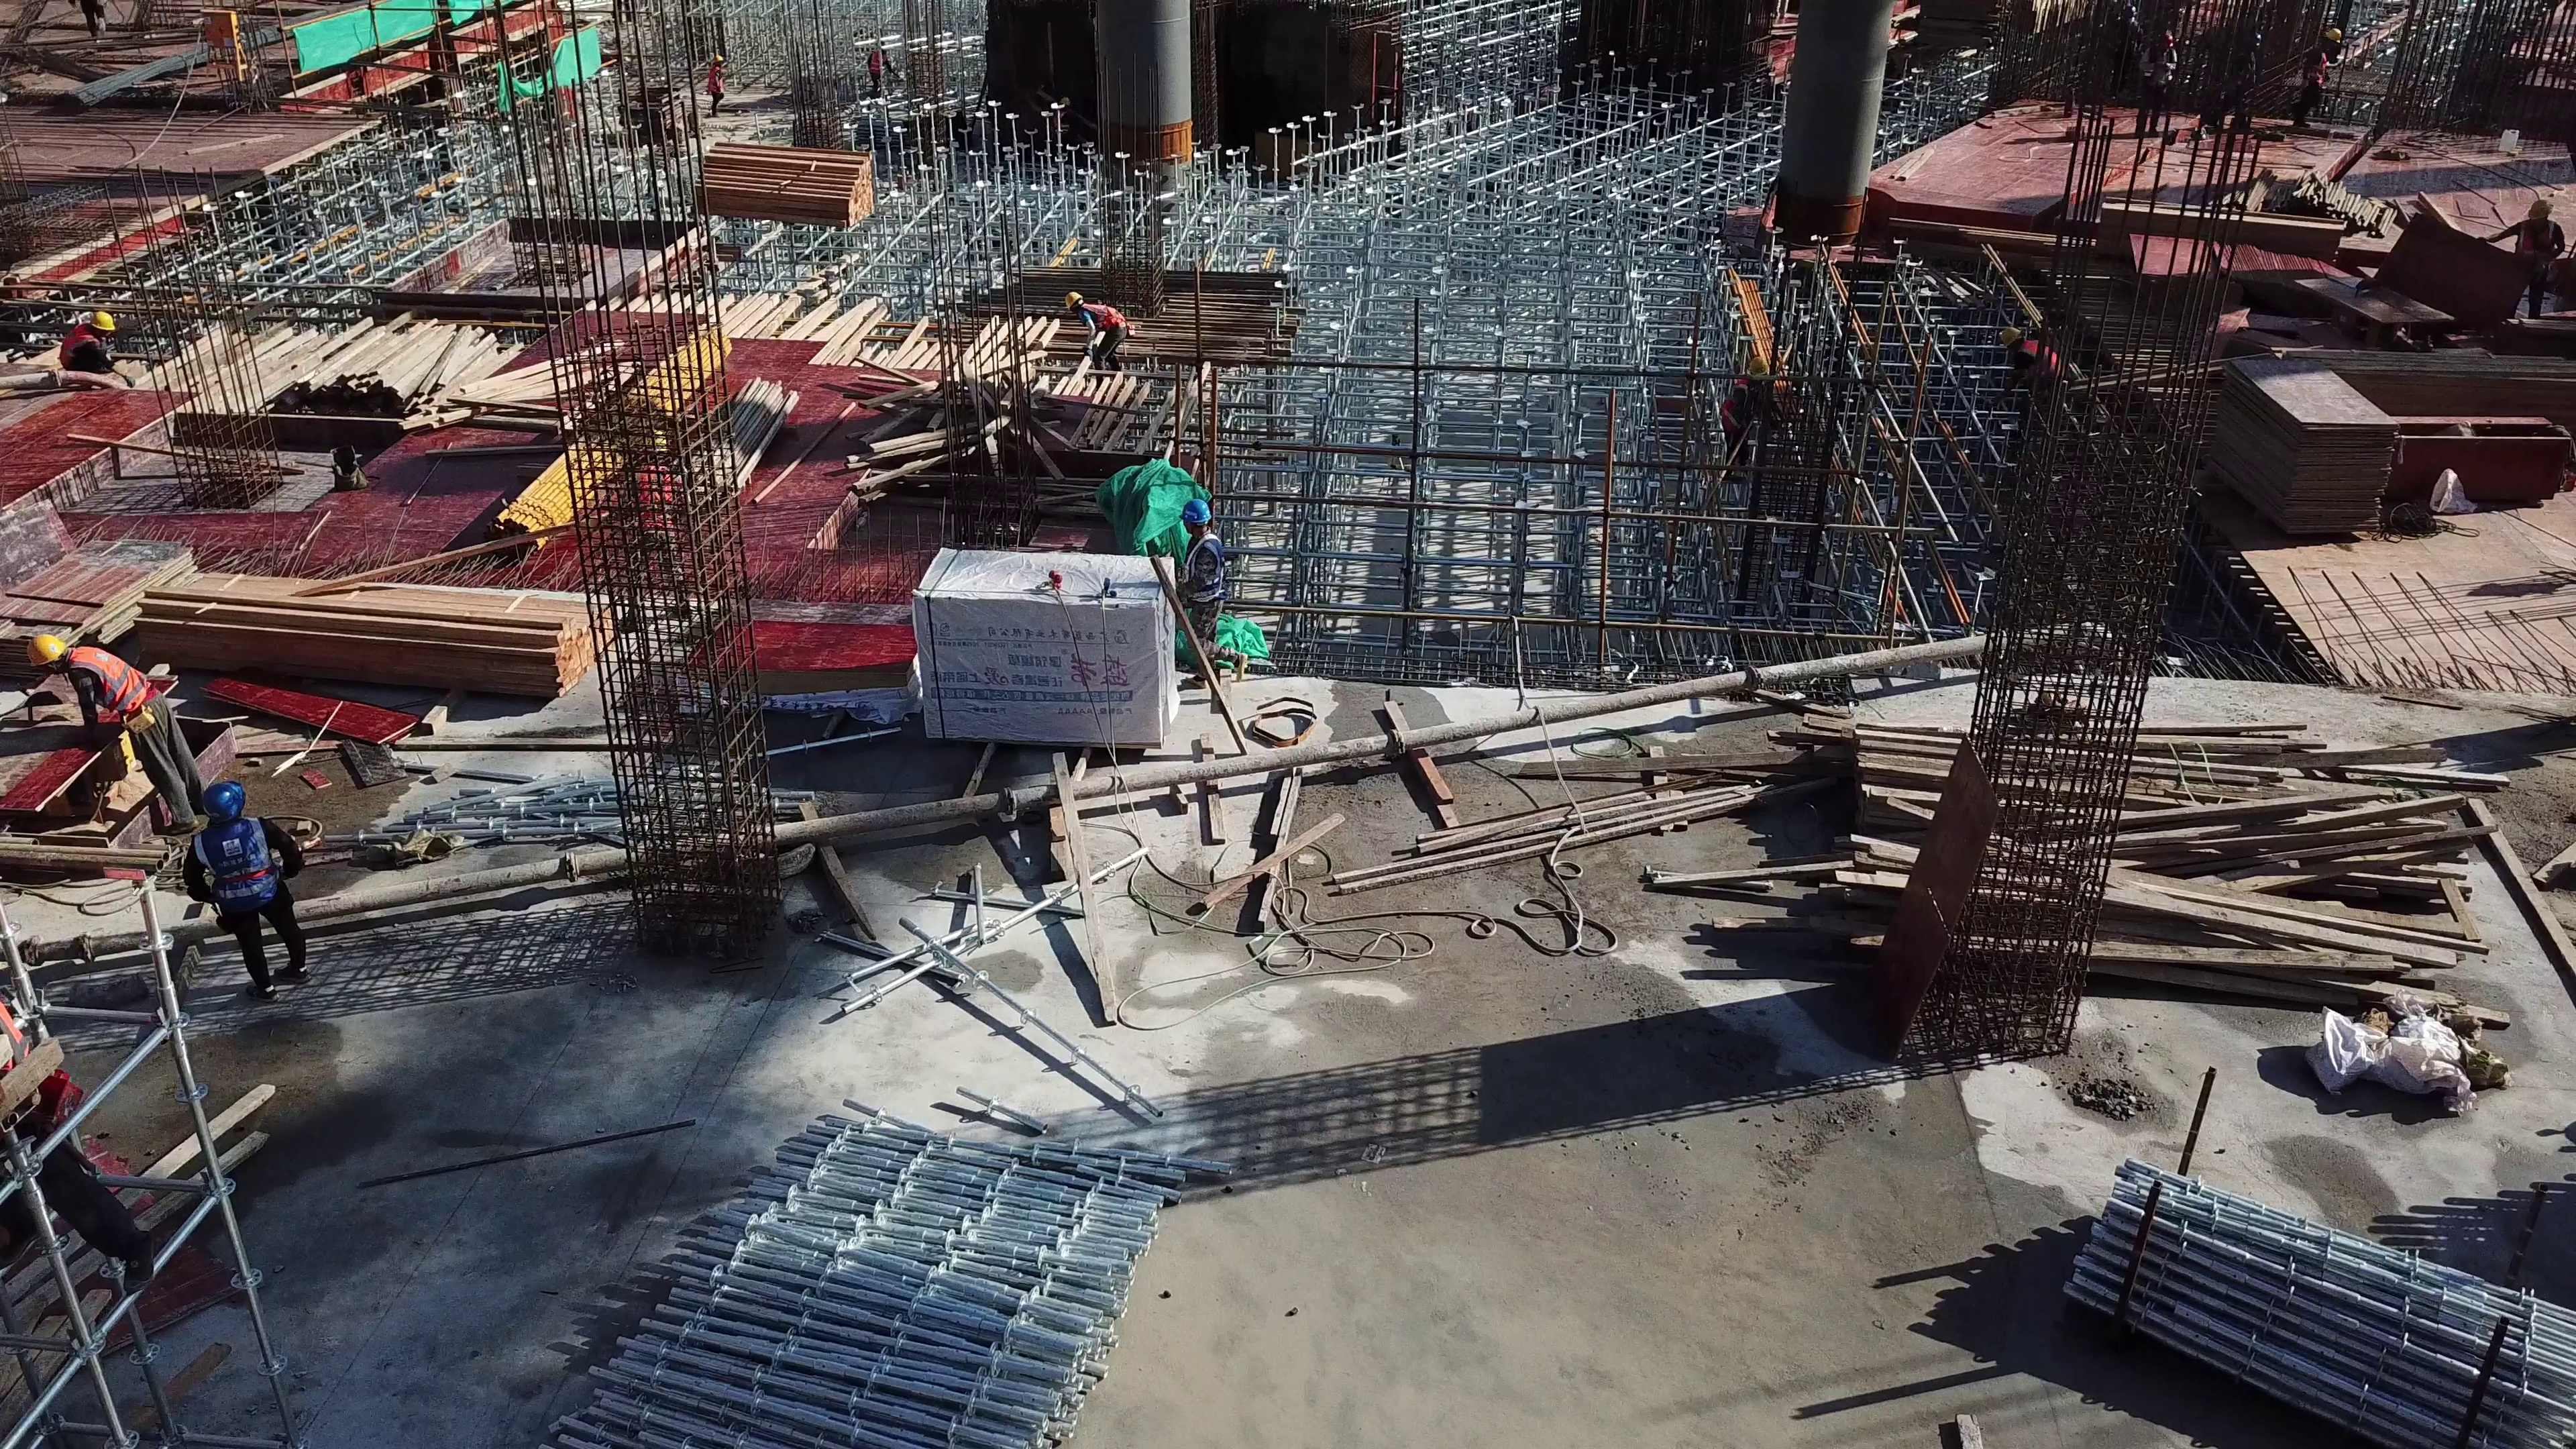helmet: (201, 780, 248, 822), (28, 634, 71, 673), (1185, 497, 1216, 535), (89, 308, 113, 337), (2523, 201, 2556, 219), (1997, 325, 2021, 349), (2320, 27, 2343, 48), (1065, 285, 1081, 310), (1748, 355, 1767, 375)
person: (1, 1000, 154, 1292), (24, 633, 207, 834), (178, 781, 313, 1000), (606, 427, 695, 632), (1173, 500, 1249, 692), (2480, 201, 2565, 321), (1721, 356, 1786, 479), (56, 310, 136, 391), (1999, 323, 2060, 431), (1065, 290, 1132, 380), (2294, 26, 2343, 126), (2137, 35, 2176, 146), (71, 1, 117, 39), (867, 40, 896, 95), (706, 52, 724, 114)
vest: (194, 820, 276, 900), (70, 647, 151, 712), (1184, 536, 1230, 600), (1, 1004, 33, 1072), (2018, 340, 2060, 383), (1724, 375, 1747, 446), (59, 321, 94, 364), (2519, 216, 2549, 265), (1083, 303, 1128, 329), (2308, 49, 2323, 78), (869, 49, 883, 77), (710, 66, 722, 94)
